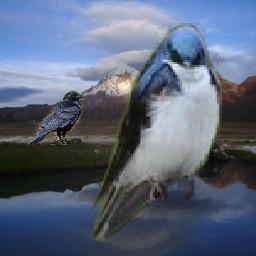Crow: (28, 91, 85, 146)
Swallow: (87, 21, 223, 241)
